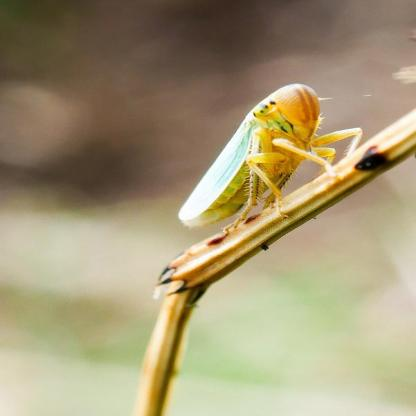Green-Leafhopper: (172, 82, 364, 237)
